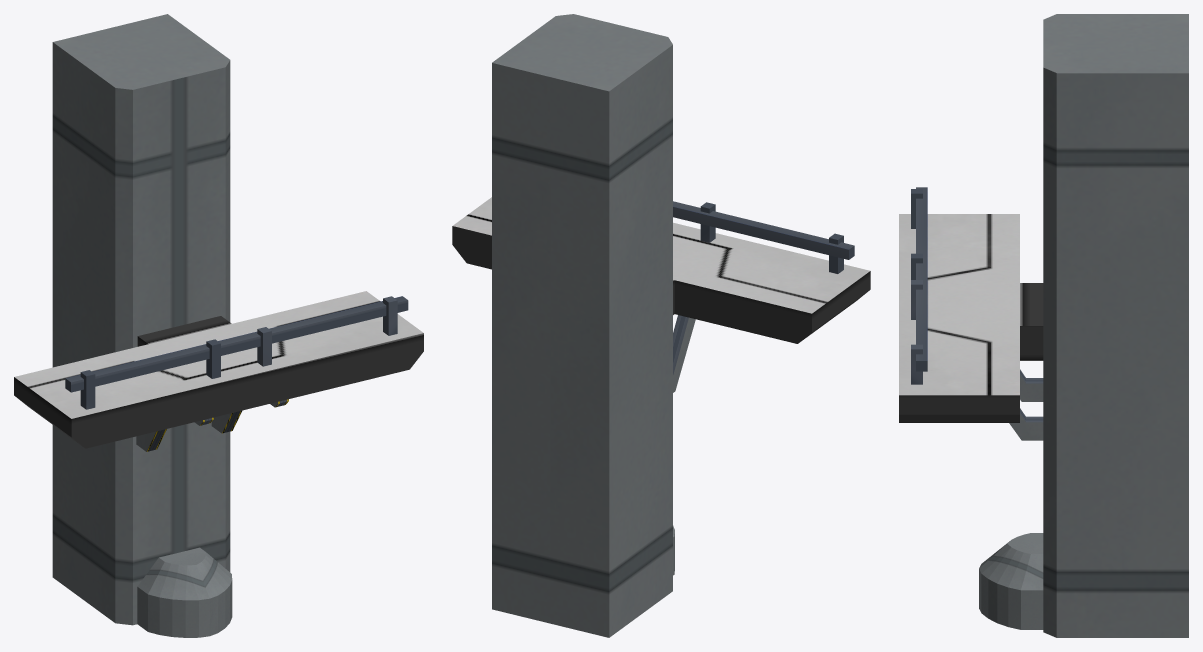
File: pillarplatform (allpieces).fbx
The picture shows the model from 3 angles, left to right: view 1: azimuth 30°, elevation 25°; view 2: azimuth 150°, elevation 25°; view 3: azimuth 270°, elevation 25°; orthographic projection. The views are drawn at different scales.
Visible parts, largest first — view 1: Cube.001, Cube.005, Cube.002, Cube.003, Cube.004; view 2: Cube.001, Cube.005, Cube.003, Cube.004; view 3: Cube.001, Cube.005, Cube.002, Cube.003, Cube.004.
Part boxes in pixels (x1,y1,x2,y2): Cube.001: (52,14,230,625); Cube.005: (14,291,423,448); Cube.002: (137,547,232,637); Cube.003: (65,296,408,409); Cube.004: (136,399,288,451); Cube.001: (492,14,672,637); Cube.005: (452,197,870,343); Cube.003: (673,201,854,273); Cube.004: (673,315,695,392); Cube.001: (1043,14,1188,637); Cube.005: (899,214,1043,422); Cube.002: (979,533,1043,629); Cube.003: (911,187,927,384); Cube.004: (1009,369,1043,440).
Bounding box in the file's own units: 589 × 855 × 398.
Materials: 1 (1 with a texture image).
